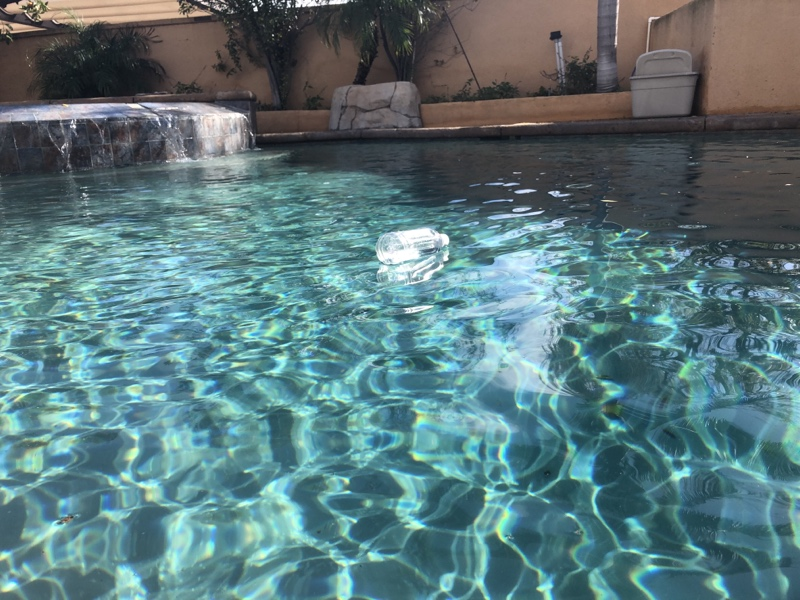Plastic Bottle: (372, 225, 451, 268)
